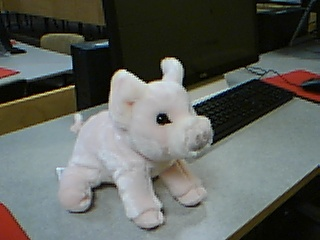piggy: (58, 55, 213, 229)
